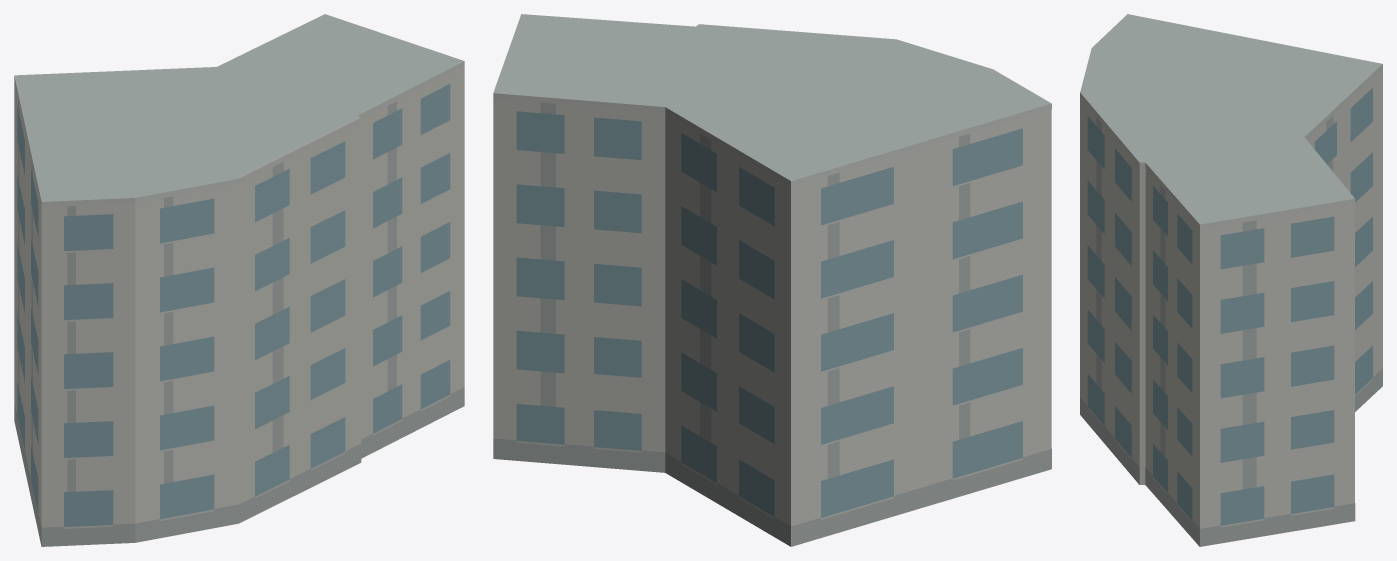
The model's file is survey-upis-32487088.glb.
The picture shows the model from 3 angles, left to right: view 1: azimuth 30°, elevation 25°; view 2: azimuth 150°, elevation 25°; view 3: azimuth 270°, elevation 25°; orthographic projection. The views are drawn at different scales.
Parts seen in each view (by area): view 1: survey-upis-32487088.tmp; view 2: survey-upis-32487088.tmp; view 3: survey-upis-32487088.tmp.
Part boxes in pixels (bbox=[...]): survey-upis-32487088.tmp: bbox=[14, 14, 464, 546]; survey-upis-32487088.tmp: bbox=[493, 14, 1051, 546]; survey-upis-32487088.tmp: bbox=[1080, 14, 1382, 546].
Size of the model in its own units: 21.72 by 15.5 by 13.2.
